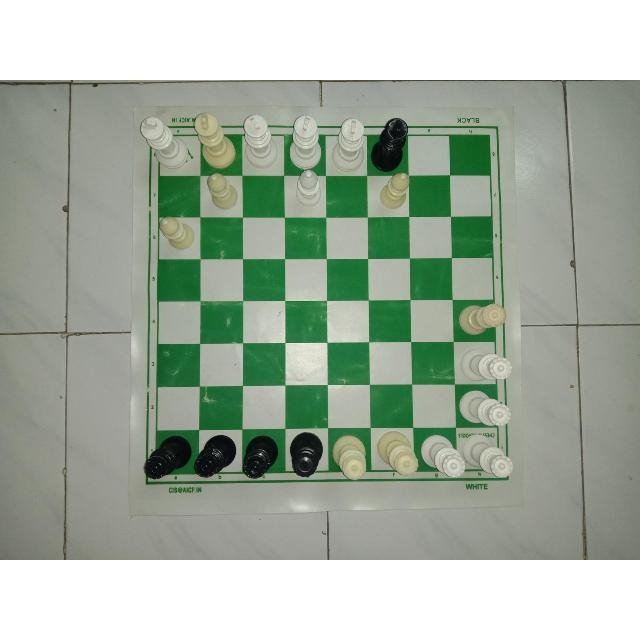black-king: (370, 116, 410, 176)
black-queen: (142, 432, 194, 484), (194, 430, 240, 480), (240, 432, 282, 484), (286, 429, 327, 479)
white-bishop: (202, 170, 242, 213), (158, 214, 198, 253), (286, 171, 325, 211), (375, 169, 411, 211)
white-king: (137, 114, 190, 172), (191, 110, 239, 170), (240, 111, 281, 172), (286, 112, 330, 166), (330, 117, 368, 175)
white-queen: (460, 432, 514, 482), (419, 430, 468, 482), (457, 387, 513, 431), (374, 429, 422, 479), (456, 345, 516, 384), (453, 301, 507, 343), (328, 430, 369, 483)
